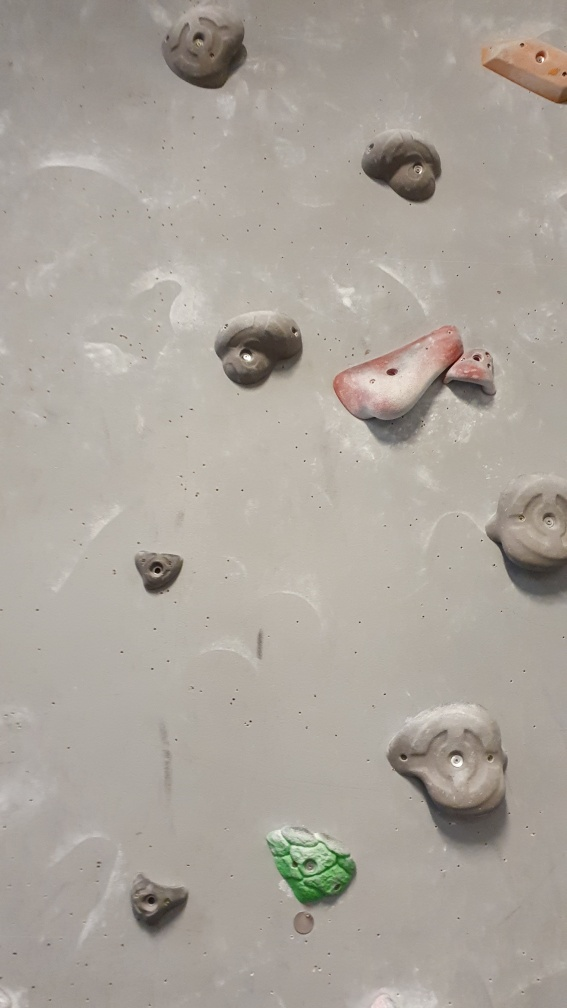Crimp: (131, 545, 188, 596)
Hand Start: (291, 907, 317, 939)
Jug: (384, 701, 512, 822), (483, 471, 567, 574), (158, 4, 249, 93), (215, 309, 305, 392), (359, 126, 445, 203)
Pinch: (476, 32, 567, 109)
